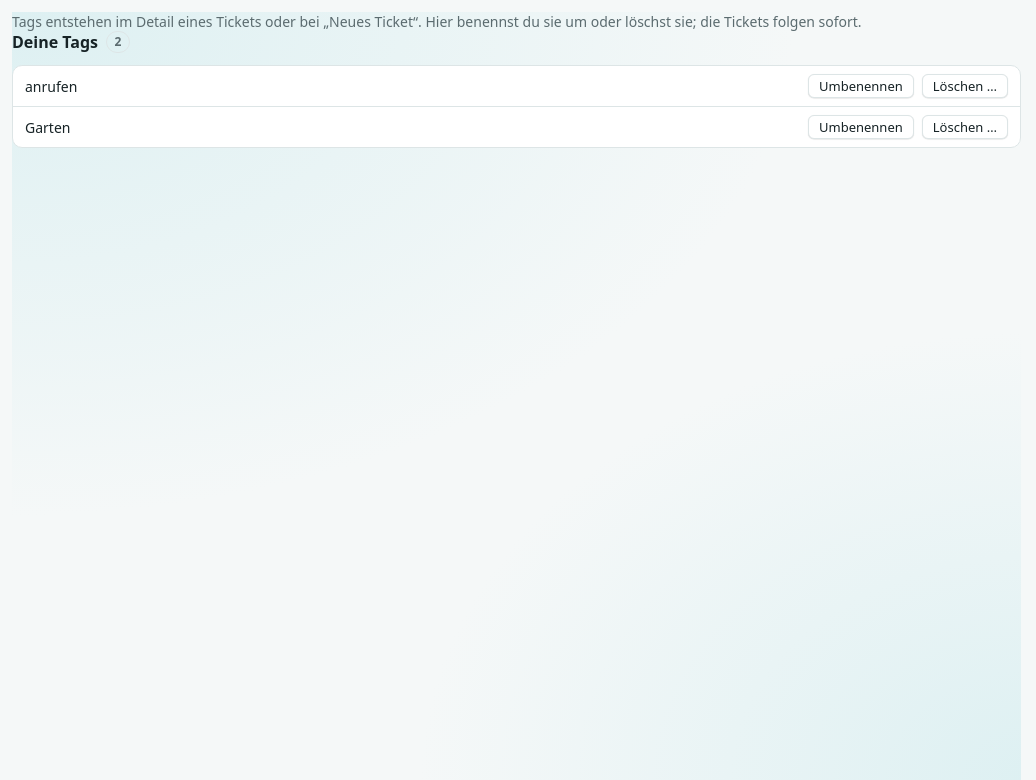
Test case: settings page "Tags" › renames a tag in the catalog and reports it as a flag
The width and height of the screenshot is (1036, 780).
Click the button with aria-label "Tag „Garten“ umbenennen".
click(861, 127)  # box x1=808 y1=115 x2=914 y2=139
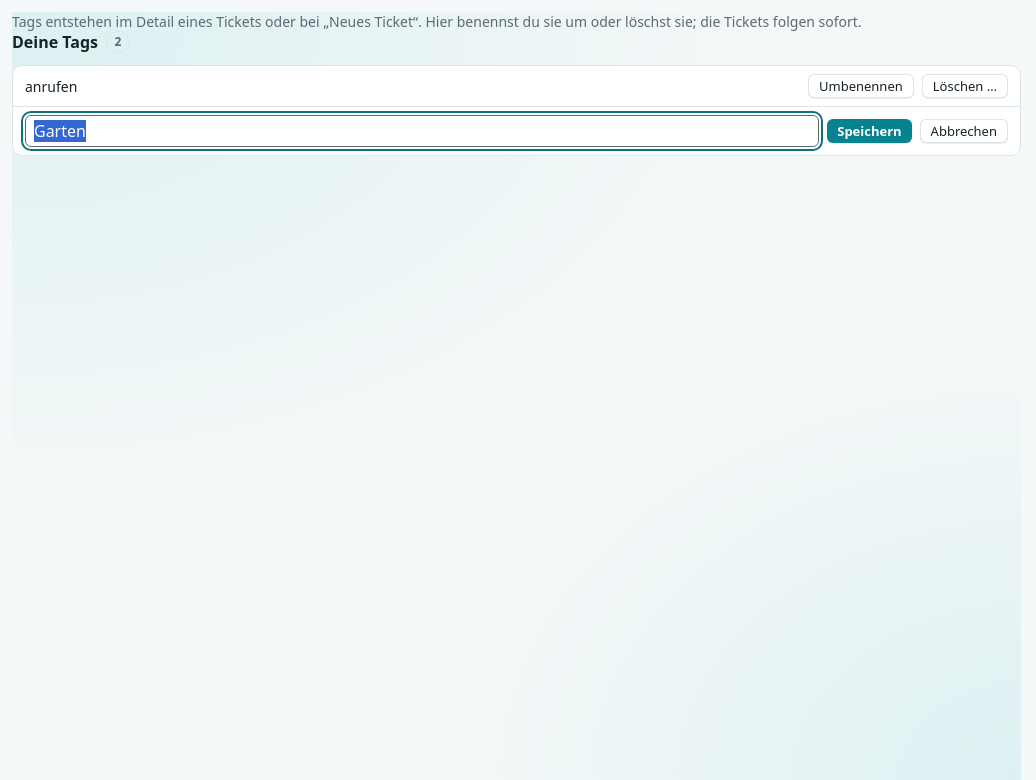
Replace the text in the field named "Neuer Name für den Tag „Garten“" with "Beet" at (422, 131), box x1=25 y1=115 x2=819 y2=147
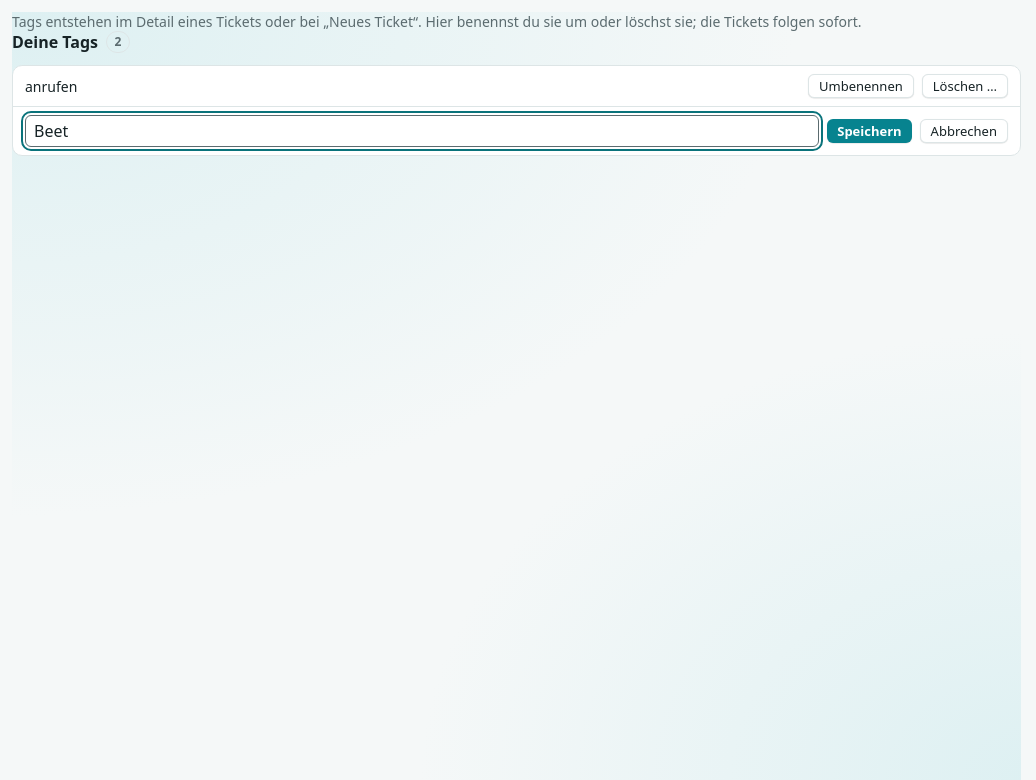
Submit the form named "Neuer Name für den Tag „Garten“", box x1=25 y1=115 x2=1008 y2=147
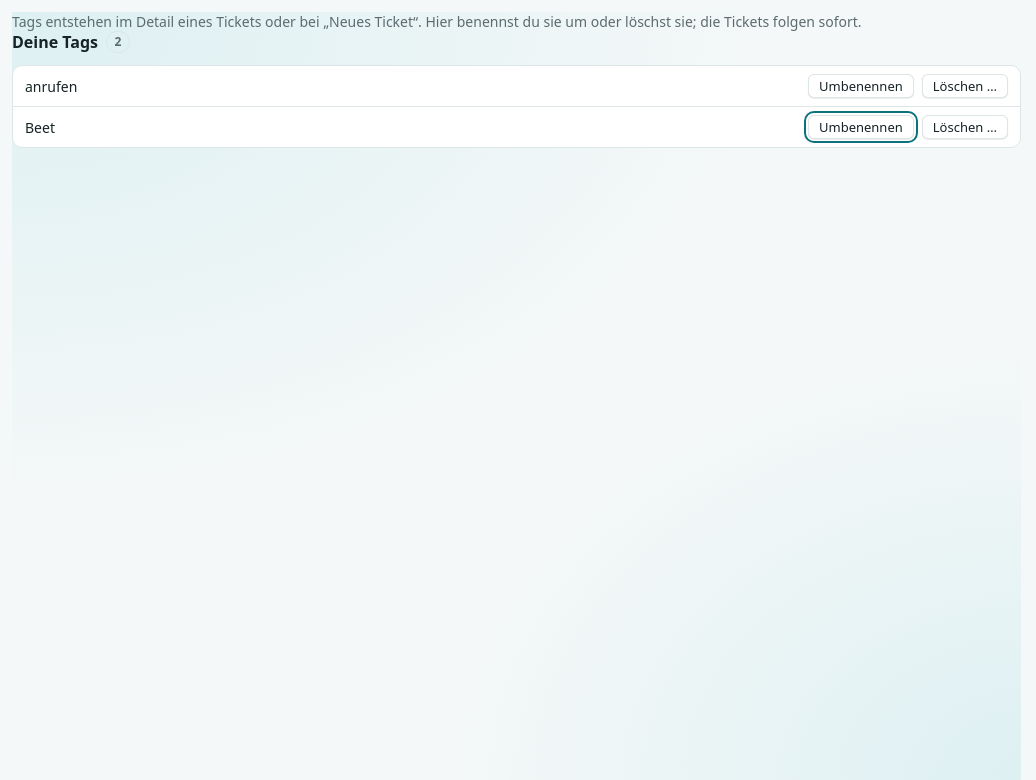
expect the text "Beet" is shown: met, box x1=25 y1=118 x2=55 y2=136
